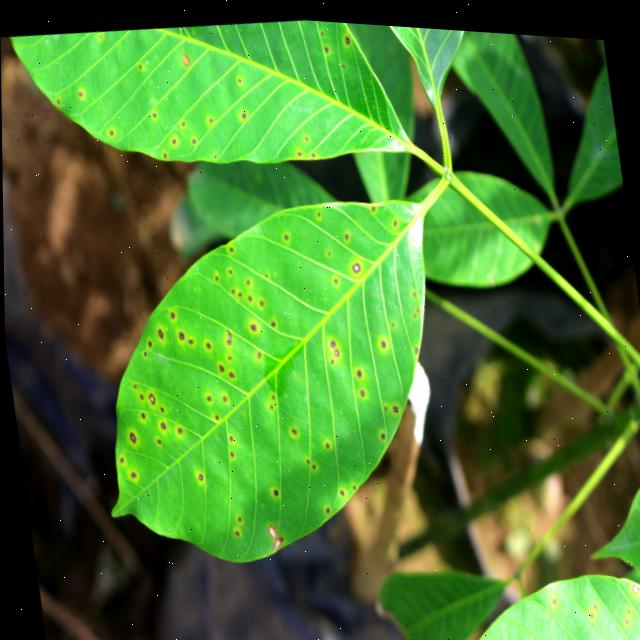Colletotrichum: (146, 390, 154, 404), (182, 51, 190, 64), (351, 257, 359, 269), (128, 429, 135, 442), (249, 319, 256, 328), (332, 343, 338, 353), (159, 419, 164, 427), (345, 32, 350, 40), (380, 335, 385, 342), (272, 485, 277, 492)
